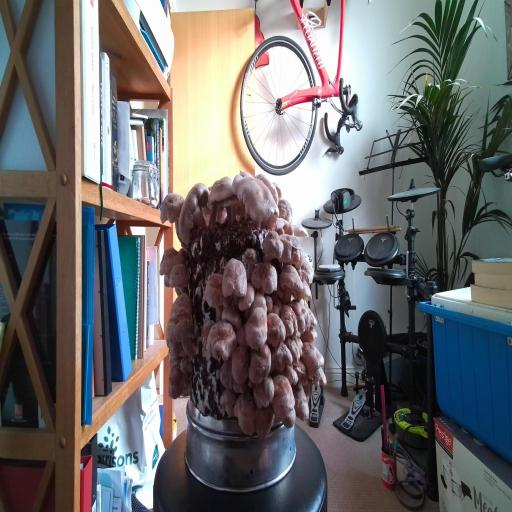Shiitake Mushroom: (220, 151, 292, 244), (158, 177, 231, 250), (192, 166, 245, 230), (193, 264, 243, 325), (213, 251, 259, 314), (210, 352, 259, 410), (162, 292, 197, 365), (270, 257, 311, 314), (282, 287, 323, 343), (291, 331, 332, 383), (265, 368, 299, 424), (149, 240, 189, 286), (205, 316, 239, 364), (250, 165, 287, 205), (157, 188, 186, 239), (213, 382, 247, 421), (217, 186, 249, 227), (249, 372, 280, 414), (214, 300, 250, 334), (281, 327, 309, 367), (276, 297, 302, 340), (244, 306, 268, 351), (233, 279, 261, 317), (277, 233, 305, 271), (291, 255, 322, 289), (234, 389, 256, 436), (267, 339, 295, 375), (290, 380, 312, 425), (251, 262, 278, 296), (249, 343, 271, 383), (261, 227, 285, 263), (271, 196, 301, 224), (254, 402, 275, 440), (169, 362, 191, 398), (168, 261, 191, 295), (162, 338, 188, 367), (291, 358, 313, 392), (231, 344, 249, 385), (242, 245, 261, 283), (279, 360, 303, 389), (267, 312, 286, 347), (309, 365, 331, 395), (278, 407, 303, 433), (176, 353, 196, 380), (298, 326, 321, 345), (288, 222, 312, 240), (234, 324, 249, 352), (301, 374, 317, 399), (250, 291, 267, 314), (175, 245, 191, 268), (271, 177, 285, 200), (301, 278, 313, 303), (263, 292, 276, 314), (277, 226, 285, 236), (164, 275, 170, 287)
